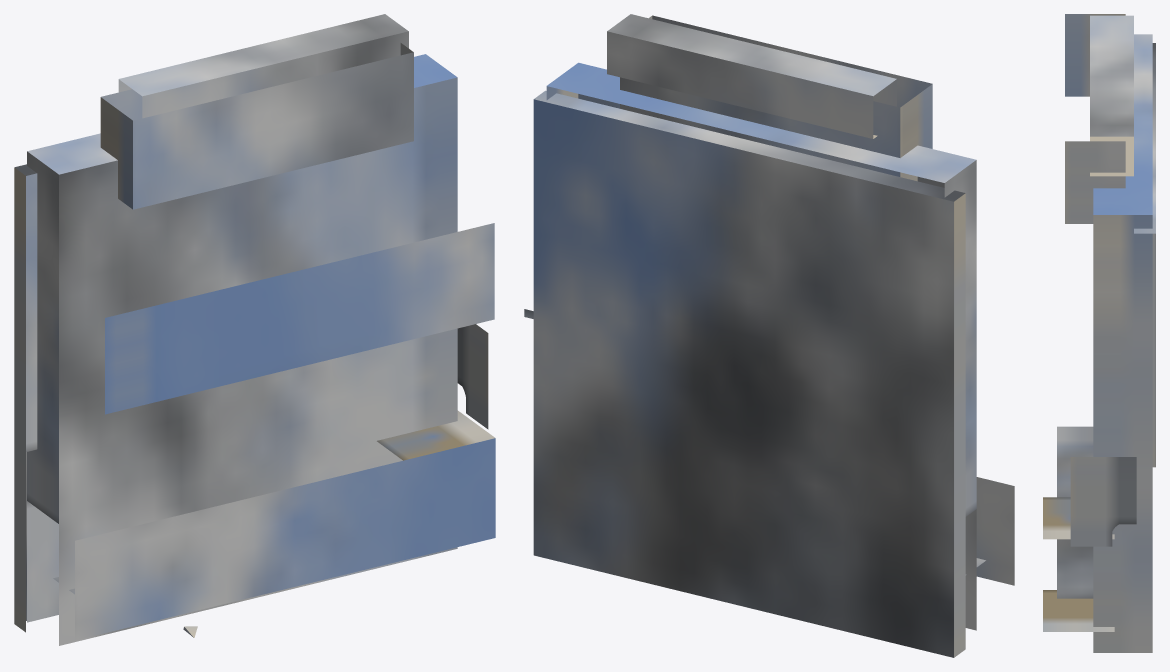
File: section-2.obj
3 views of the same model, side by side, from view 1: azimuth 30°, elevation 25°; view 2: azimuth 150°, elevation 25°; view 3: azimuth 270°, elevation 25° (orthographic). The views are drawn at different scales.
Bounding box in the file's own units: 0.8504 × 0.99 × 0.205.
